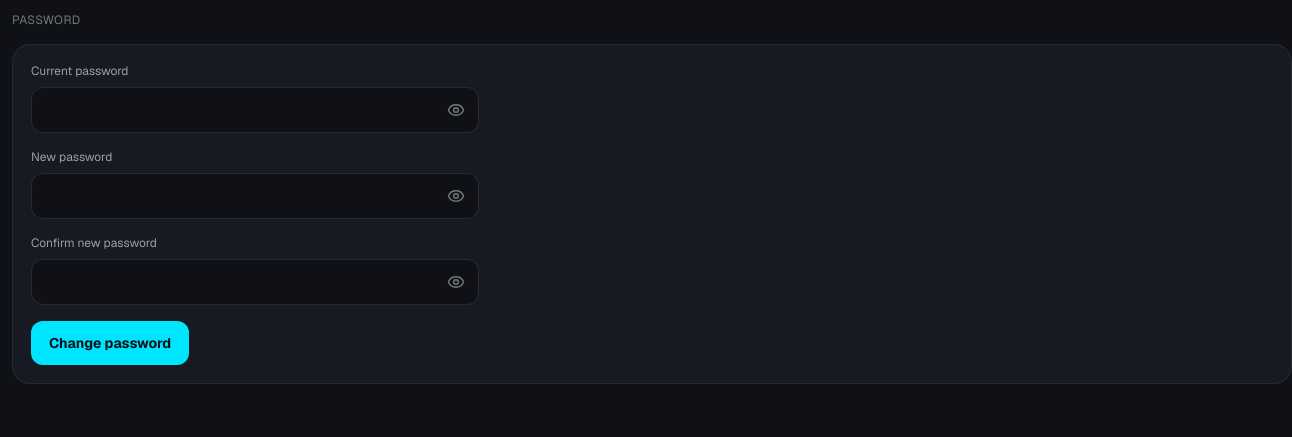
it: PasswordSection › changes the password and confirms success
The width and height of the screenshot is (1292, 437).
Type "OldPassw0rd" into the password field labelled "Current password".
click(255, 110); type("OldPassw0rd")  # box [31,87,479,133]
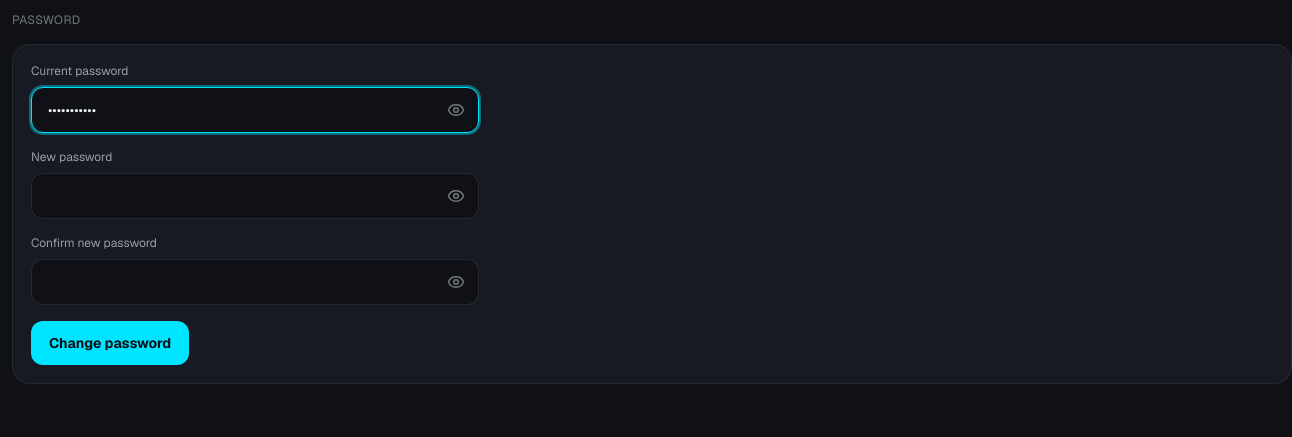
Type "NewPassw0rd" into the password field labelled "New password".
click(255, 196); type("NewPassw0rd")  # box [31,173,479,219]
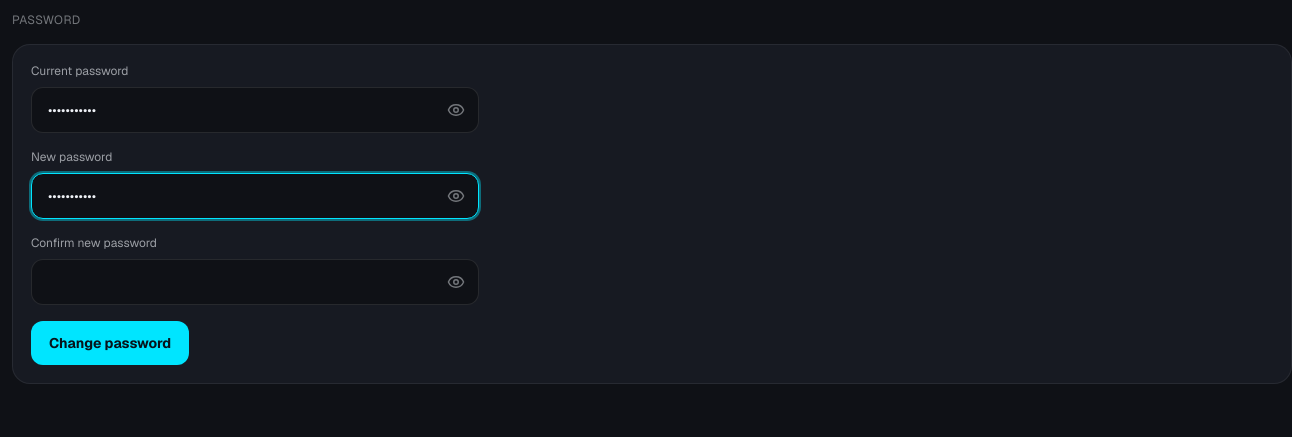
Type "NewPassw0rd" into the password field labelled "Confirm new password".
click(255, 282); type("NewPassw0rd")  # box [31,259,479,305]
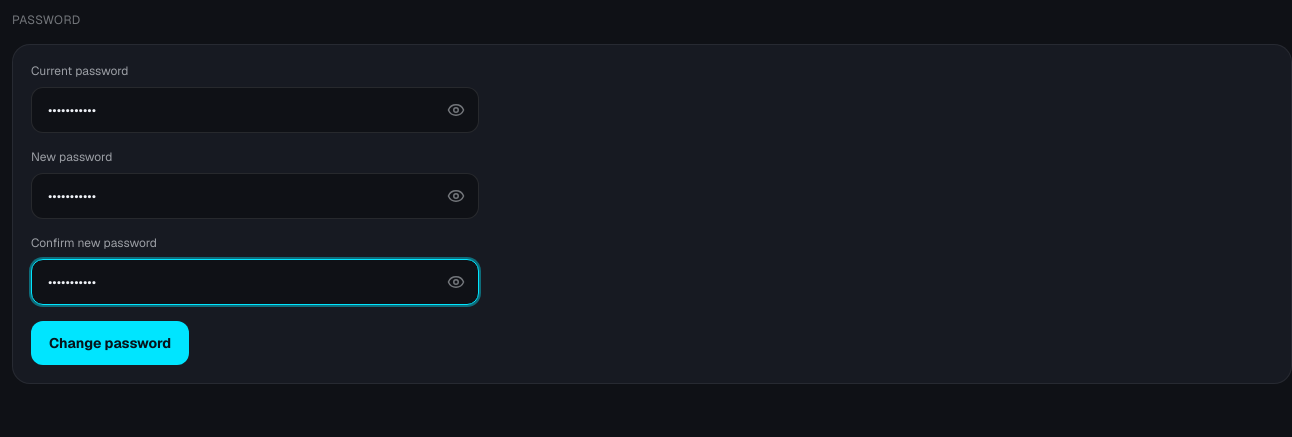
Click the button "Change password".
click(110, 343)  # box [31,321,189,365]
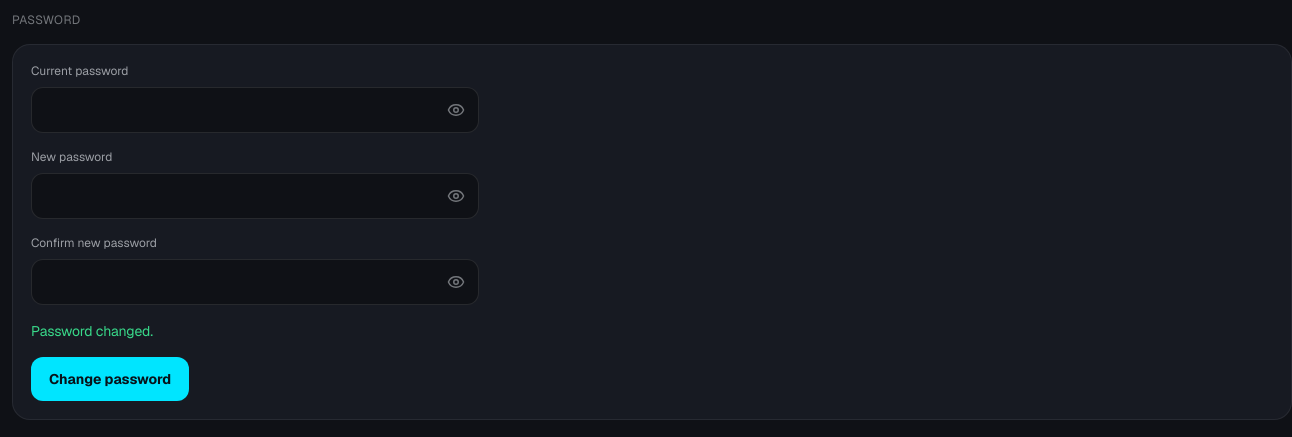
Expected: the text "Password changed." is shown, [31,322,153,340]
